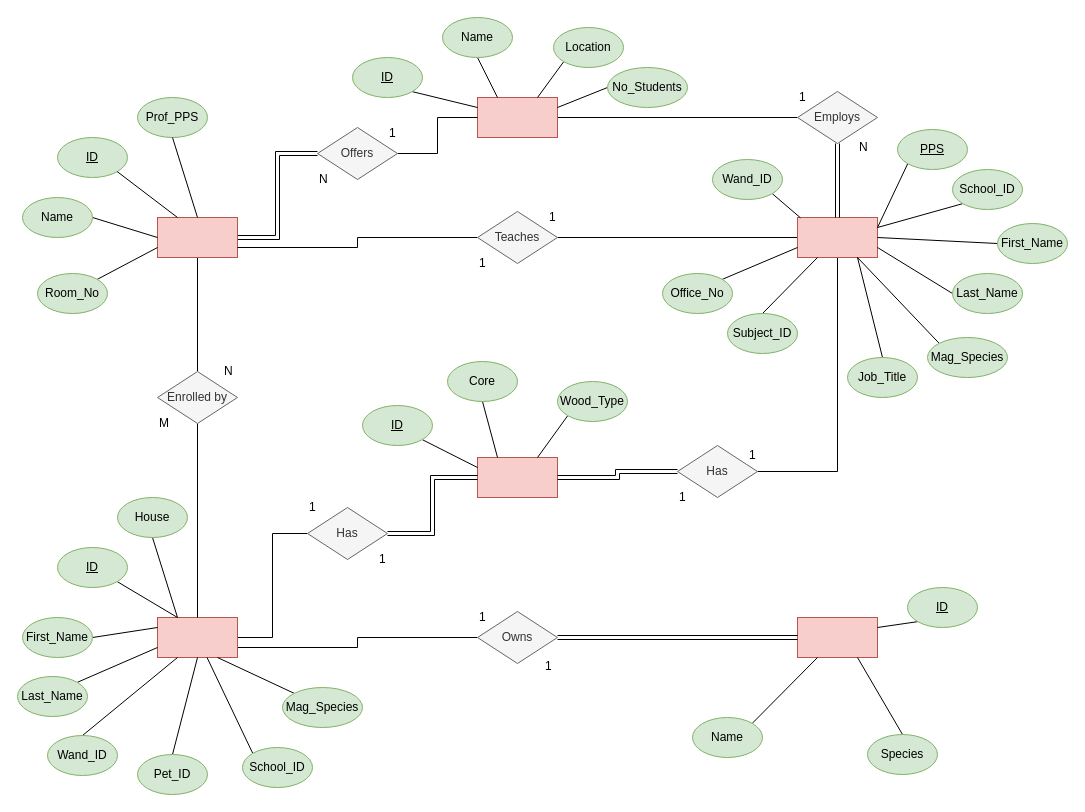
Some shapes in this 1085 by 812 pixel diagram are drawn without their labels. Each missing label, with the centre of its shape:
"Pet" goes at point (837, 637).
"School" goes at point (517, 117).
"Staff" goes at point (837, 237).
"Student" goes at point (197, 637).
"Subject" goes at point (197, 237).
"Wand" goes at point (517, 477).
